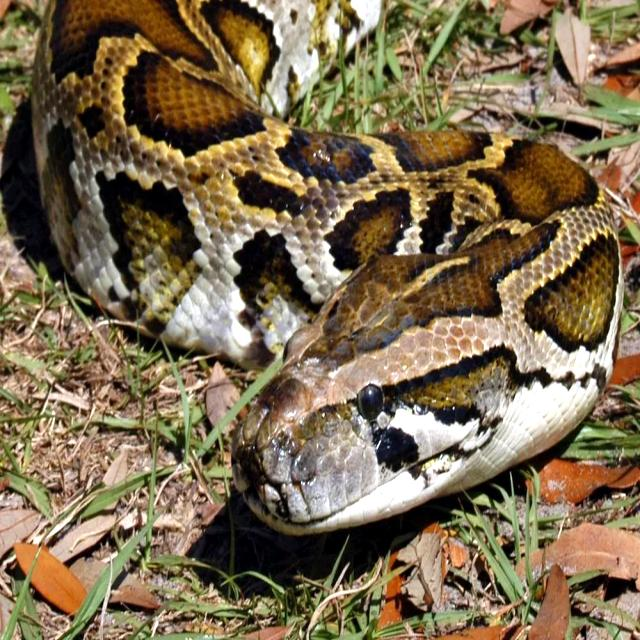Python bivittatus: (32, 0, 622, 532)
